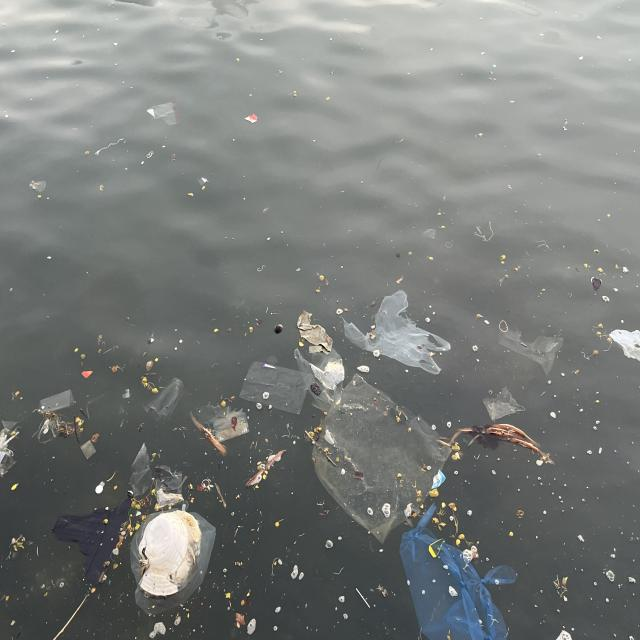foam: (140, 515, 189, 599)
plastic bag: (302, 383, 458, 538), (346, 291, 447, 375)
